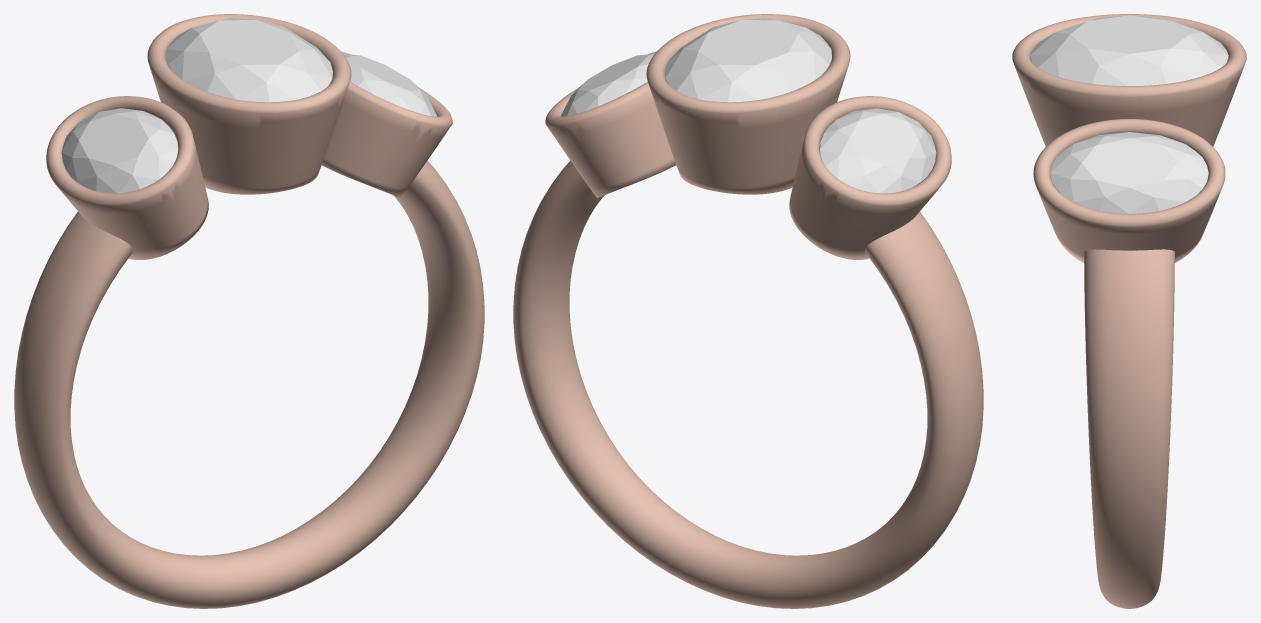
Rendered from diamond-oval-rosegold-bezelset-taperedband-3stone.glb.
3 renders of one model, left to right at view 1: azimuth 30°, elevation 25°; view 2: azimuth 150°, elevation 25°; view 3: azimuth 270°, elevation 25°, orthographic.
Parts seen in each view (by area): view 1: metal, stone.002, side.004, side.005; view 2: metal, stone.002, side.004, side.005; view 3: metal, stone.002, side.005.
Part boxes in pixels (left/top/right/bottom): metal: left=14, top=14, right=484, bottom=608; stone.002: left=166, top=17, right=332, bottom=102; side.004: left=61, top=108, right=178, bottom=193; side.005: left=343, top=53, right=437, bottom=116; metal: left=513, top=14, right=983, bottom=608; stone.002: left=665, top=17, right=831, bottom=102; side.004: left=819, top=108, right=936, bottom=193; side.005: left=560, top=53, right=654, bottom=116; metal: left=1012, top=14, right=1246, bottom=608; stone.002: left=1030, top=15, right=1228, bottom=85; side.005: left=1050, top=132, right=1208, bottom=213.
Bounding box in the file's own units: 19.89 × 23.4 × 9.04.
